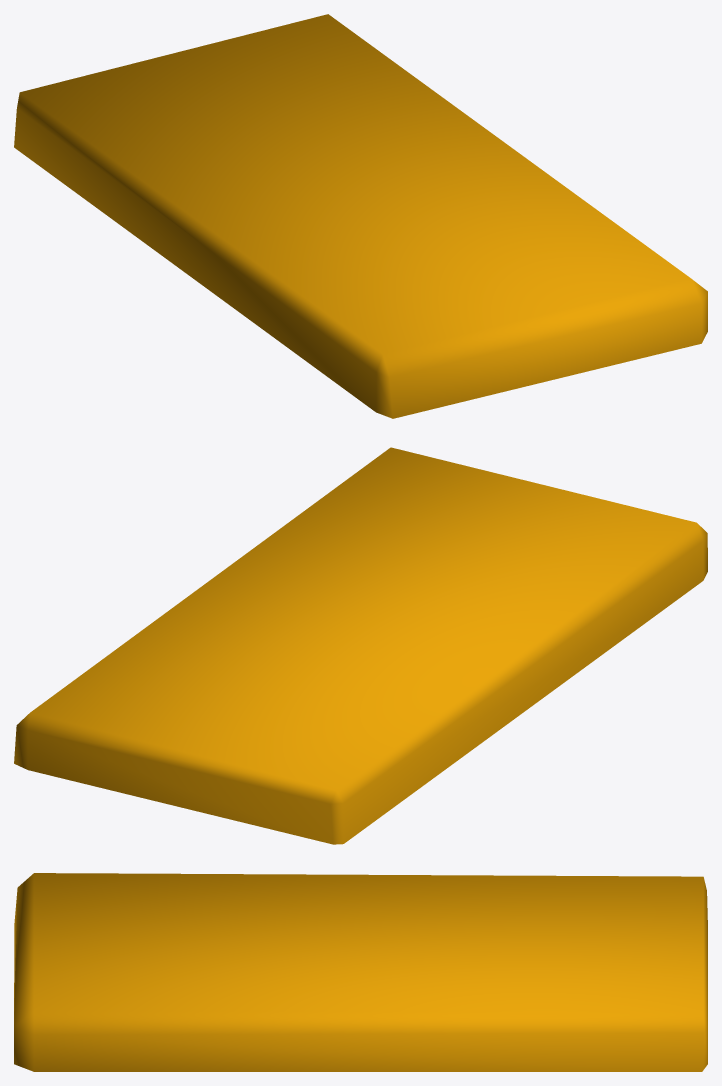
The model's file is Platform_L_6.fbx.
3 views of the same model, one above another, from view 1: azimuth 30°, elevation 25°; view 2: azimuth 150°, elevation 25°; view 3: azimuth 270°, elevation 25° (orthographic). The views are drawn at different scales.
Parts seen in each view (by area): view 1: Platform_L_6; view 2: Platform_L_6; view 3: Platform_L_6.
Boxes of the visible parts, x1,y1,x2,y2 form: Platform_L_6: (14,14,707,418); Platform_L_6: (14,447,707,844); Platform_L_6: (14,873,707,1071).
Bounding box in the file's own units: 600 × 99.38 × 1178.
